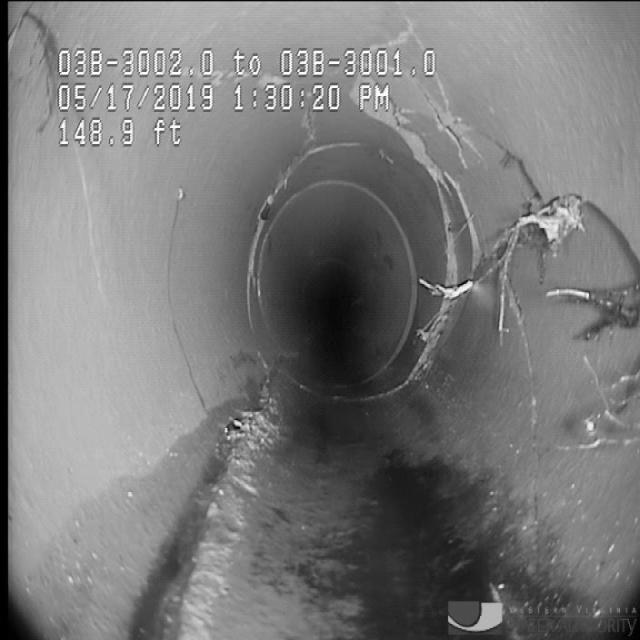Fracture: (412, 74, 536, 222), (418, 220, 463, 393)
